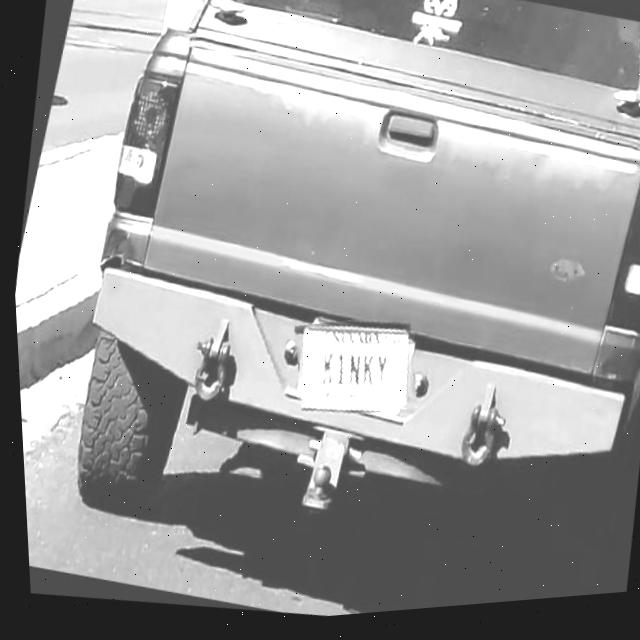LicensePlate: (297, 330, 407, 416)
